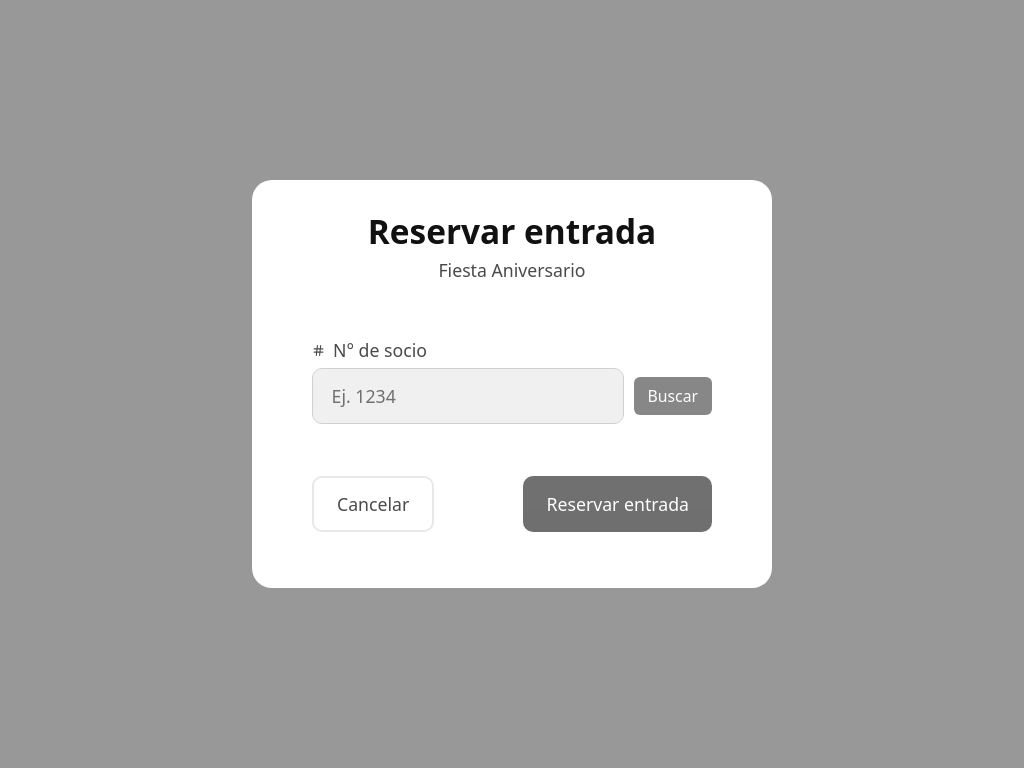
Test case: ReservarEntradaForm › busca el socio por número y muestra su nombre
In the field with placeholder "Ej. 1234": (468, 396) [312,368,624,424], type "1234"
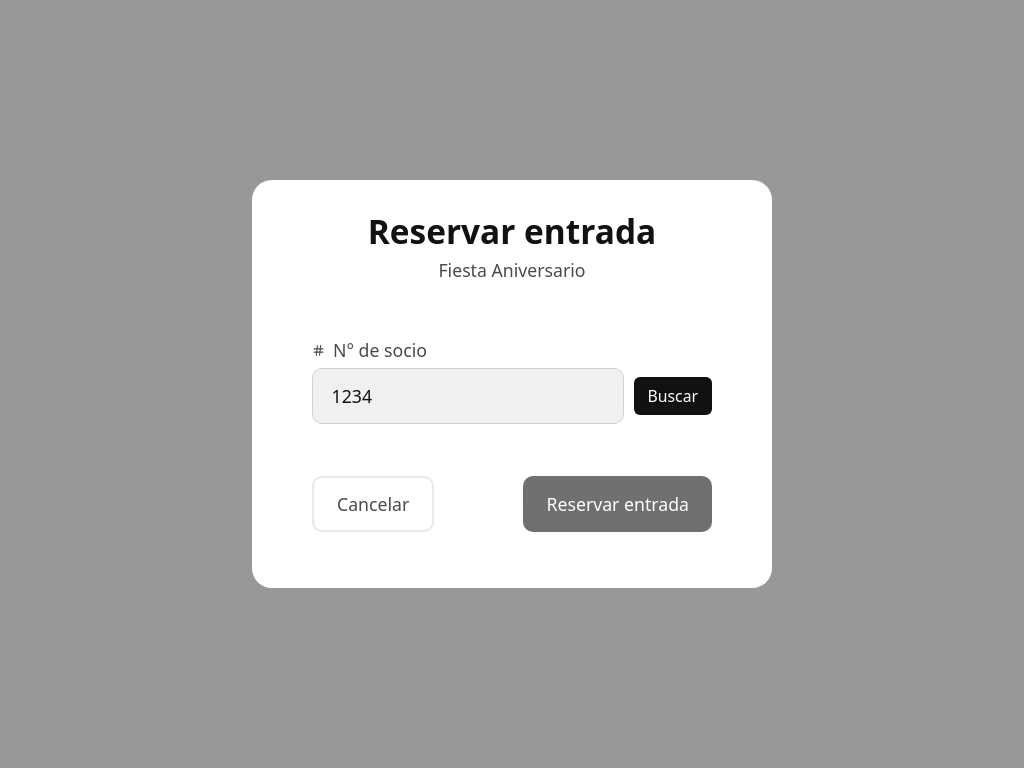
Click the button "Buscar": click(673, 396) [634,377,712,415]
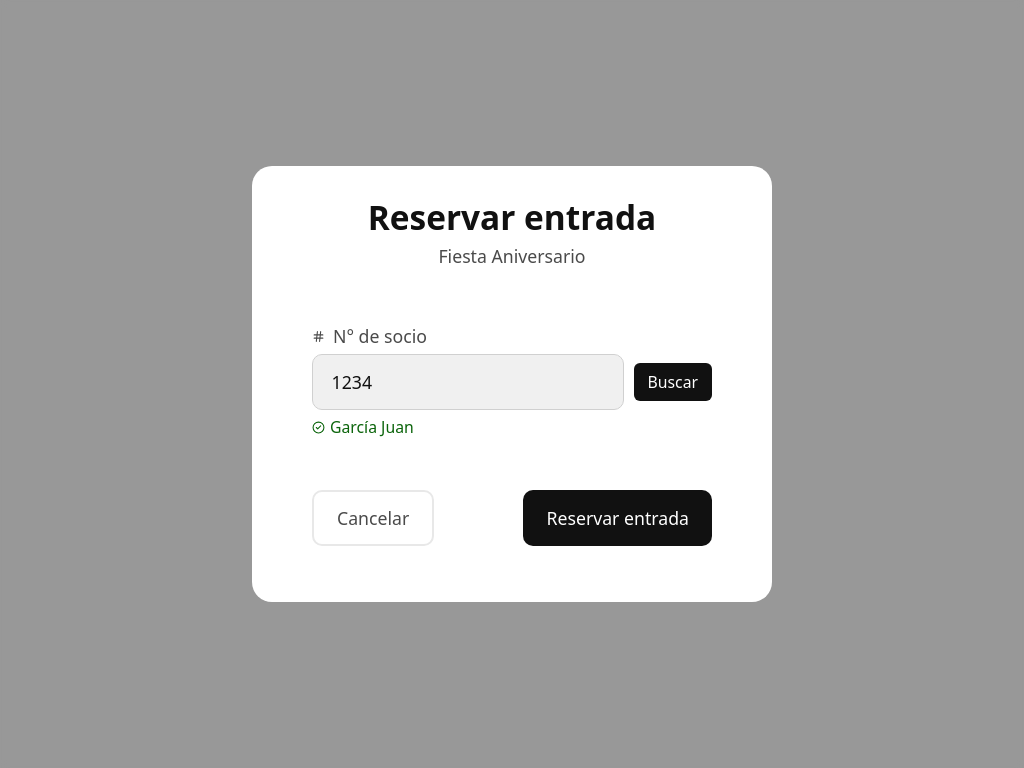
expect the text "García Juan" is shown: met, box [312,416,414,438]
expect the button "Reservar entrada" is enabled: met, box [524,490,712,546]
